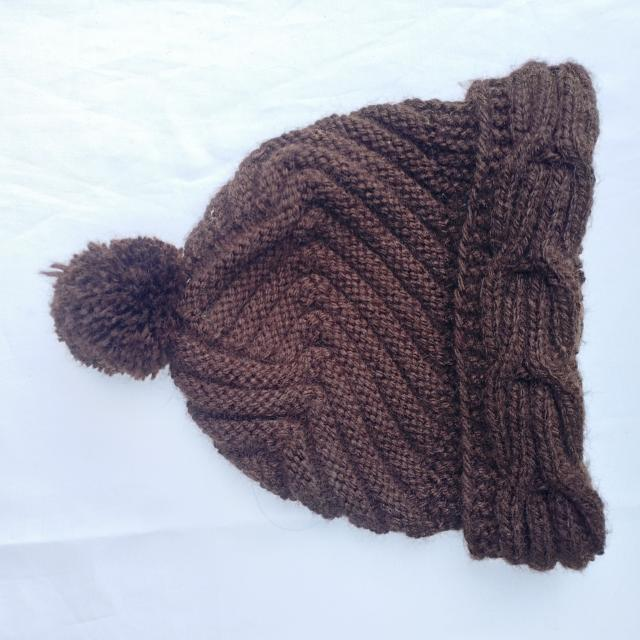Gorro: (41, 57, 608, 573)
